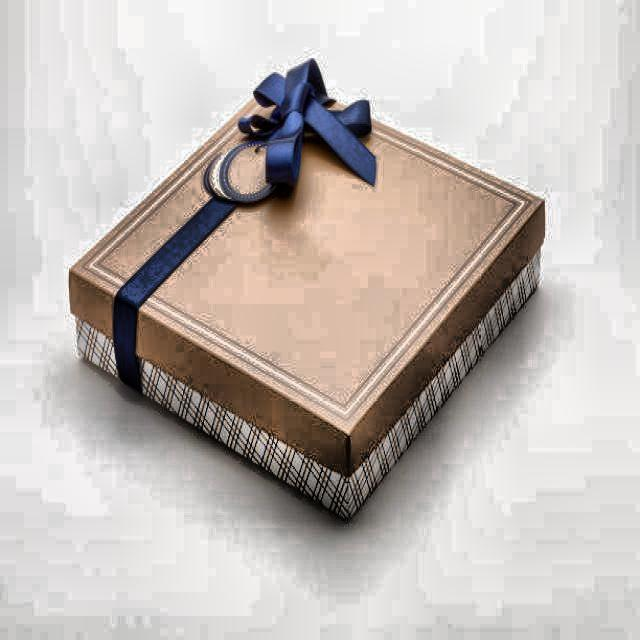cardboard: (67, 66, 547, 522)
